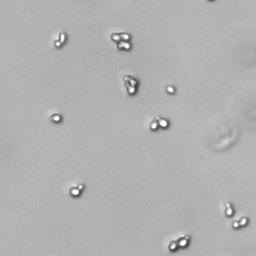budding: (169, 235, 189, 251), (150, 116, 168, 131), (231, 216, 250, 230), (68, 183, 84, 197), (54, 33, 67, 47), (224, 202, 235, 217), (50, 113, 63, 123)
cluster: (110, 30, 134, 51), (121, 73, 139, 96)
individual: (164, 84, 176, 94)
